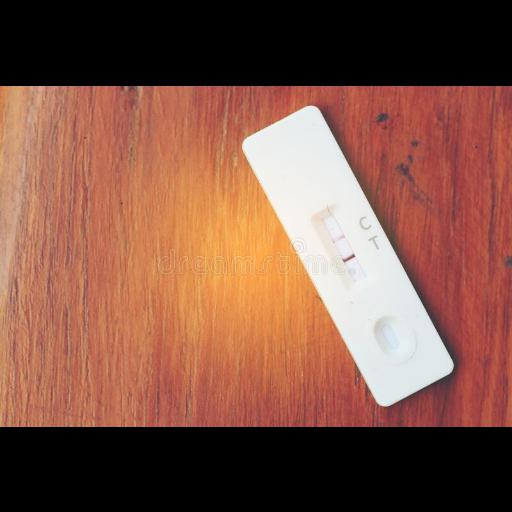Pos: (240, 102, 458, 408)
